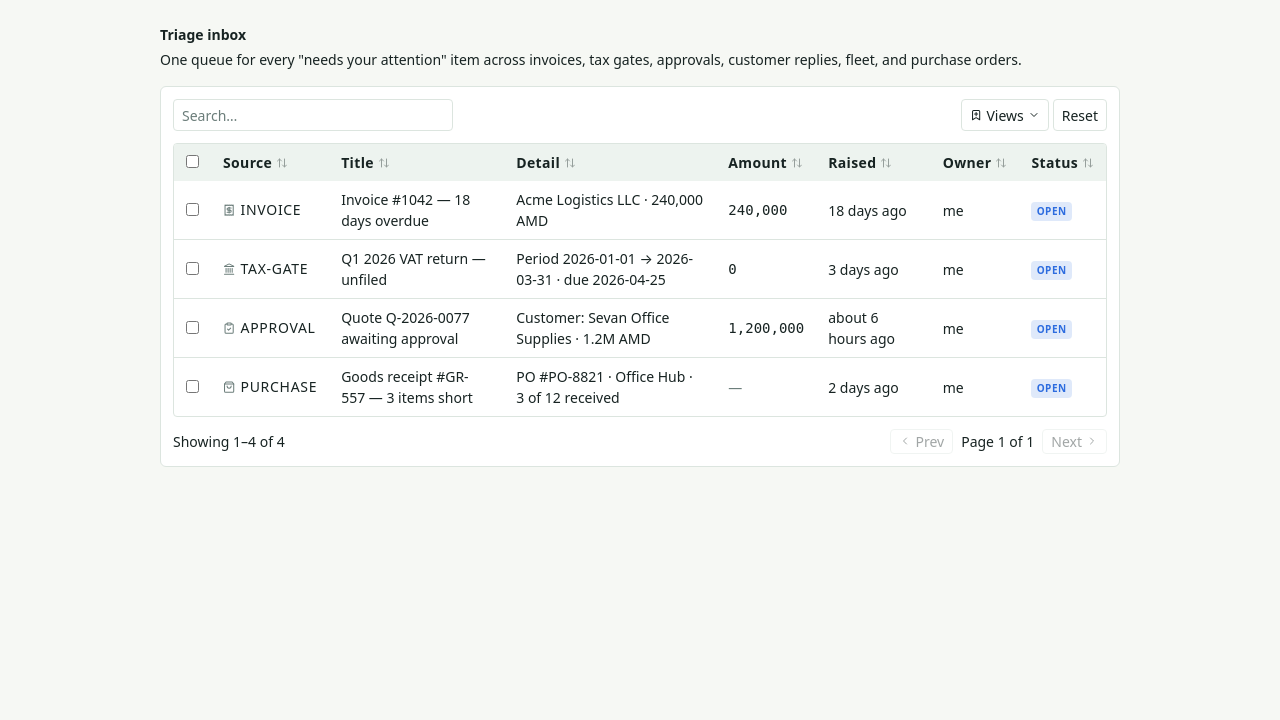
Test case: triage inbox route › opens the PeekPanel on row click
Click the row with test id "data-table-row-inv-1042-overdue" at (640, 210), box x1=174 y1=181 x2=1106 y2=240
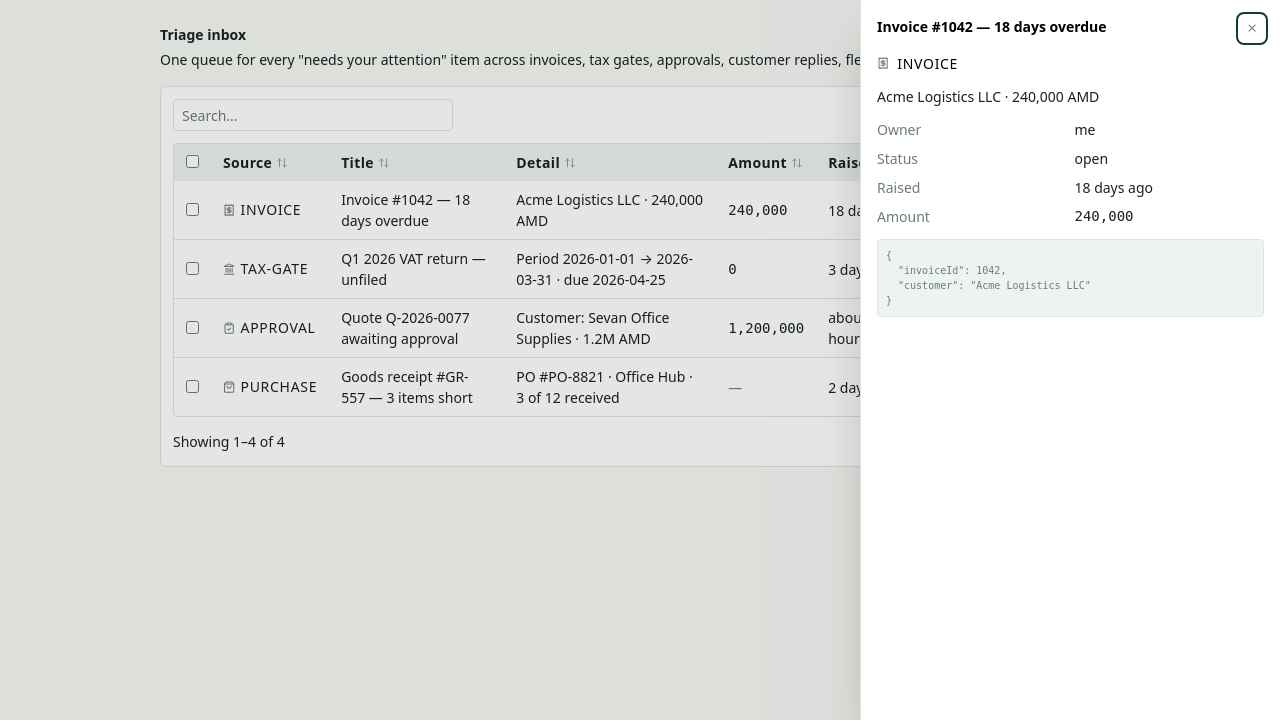
Result: the element with test id "triage-inbox-peek" is shown at x1=877 y1=52 x2=1264 y2=316
Result: the text "Acme Logistics LLC · 240,000 AMD" is shown at x1=877 y1=86 x2=1099 y2=106
